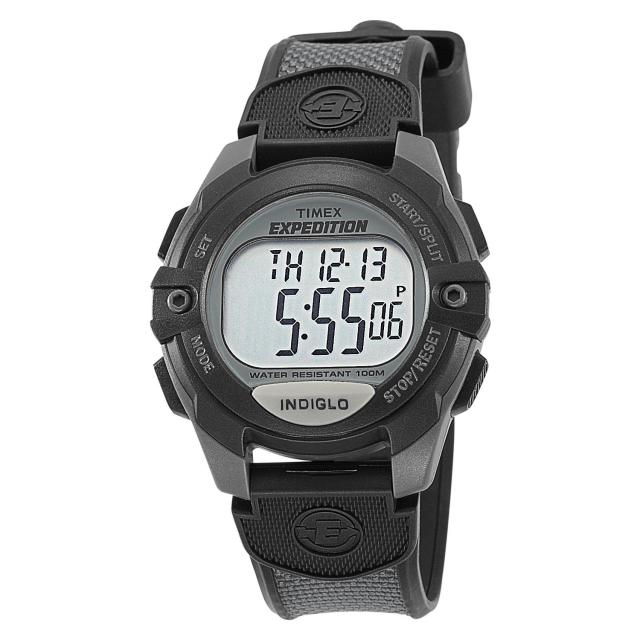watch: (147, 18, 492, 620)
